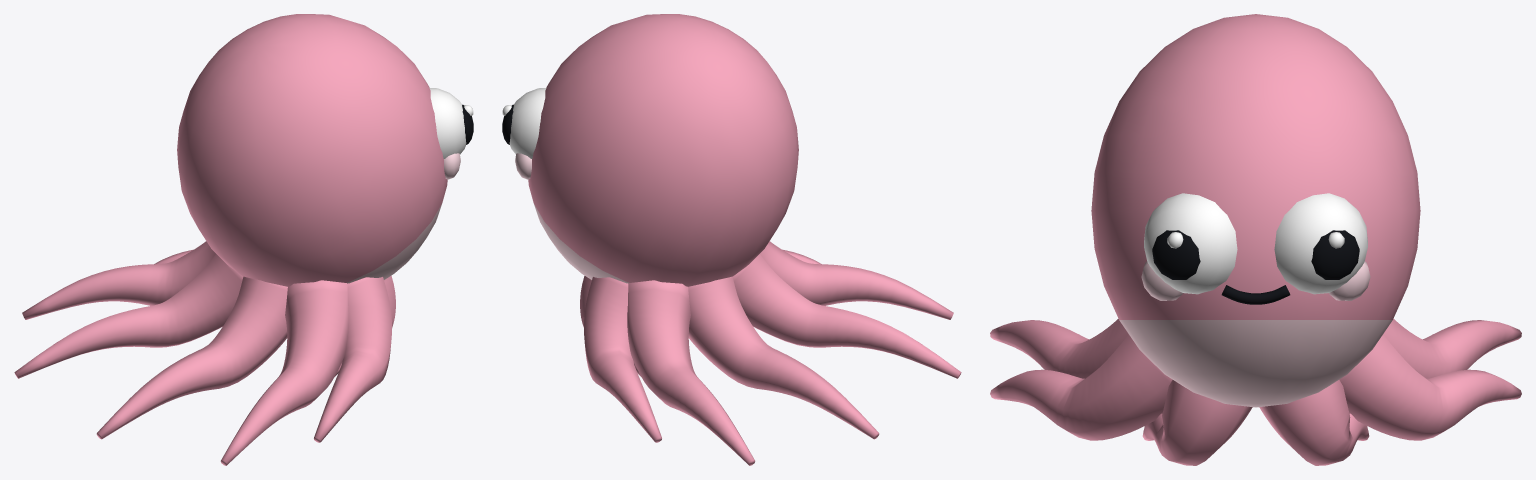
The model's file is fish_octopus.glb.
The picture shows the model from 3 angles, left to right: view 1: azimuth 30°, elevation 25°; view 2: azimuth 150°, elevation 25°; view 3: azimuth 270°, elevation 25°; orthographic projection. The views are drawn at different scales.
Parts seen in each view (by area): view 1: Fish, Tail; view 2: Fish, Tail; view 3: Fish, Tail.
Part boxes in pixels (x1,y1,x2,y2): Fish: (177,14,473,286); Tail: (14,241,395,465); Fish: (502,14,798,286); Tail: (580,241,961,465); Fish: (1091,14,1420,407); Tail: (990,319,1521,465).
Bounding box in the file's own units: 1.63 × 1.31 × 1.49.
